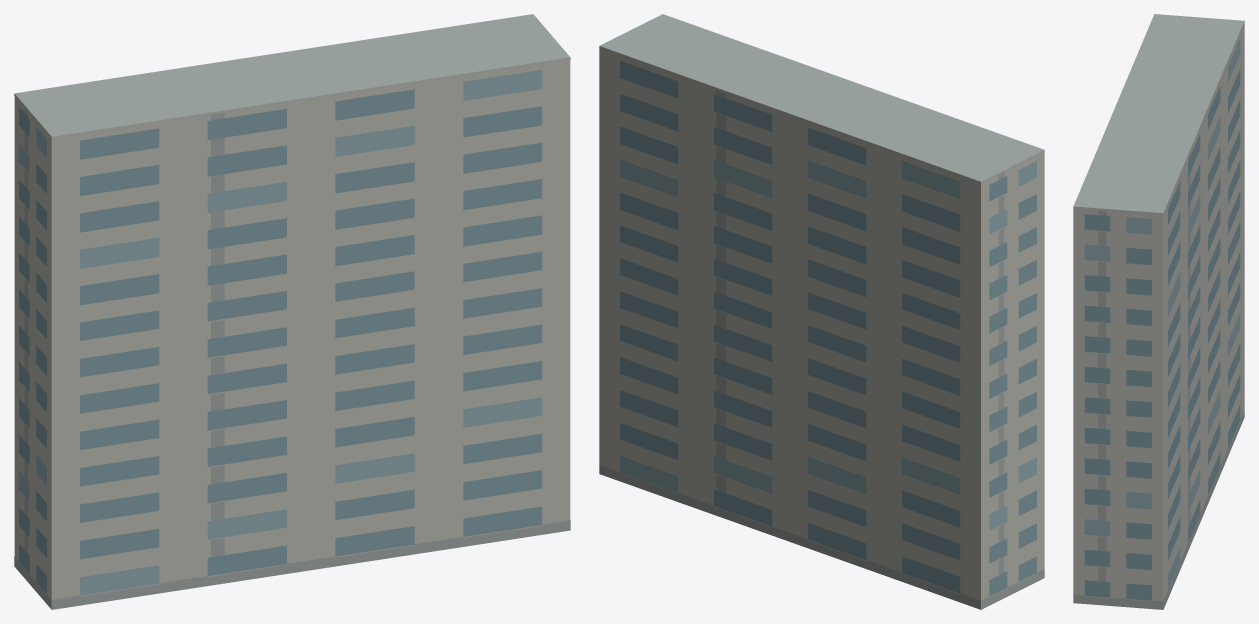
The model's file is residential-9fc532bc-6216-4def-90fa-6bdd85bdecbd.glb.
3 views of the same model, side by side, from view 1: azimuth 30°, elevation 25°; view 2: azimuth 150°, elevation 25°; view 3: azimuth 270°, elevation 25° (orthographic). The views are drawn at different scales.
Visible parts, largest first — view 1: residential-9fc532bc-6216-4def-90fa-6bdd85bdecbd.tmp; view 2: residential-9fc532bc-6216-4def-90fa-6bdd85bdecbd.tmp; view 3: residential-9fc532bc-6216-4def-90fa-6bdd85bdecbd.tmp.
Part boxes in pixels (<box>): residential-9fc532bc-6216-4def-90fa-6bdd85bdecbd.tmp: <box>14,14,570,609</box>; residential-9fc532bc-6216-4def-90fa-6bdd85bdecbd.tmp: <box>599,14,1044,609</box>; residential-9fc532bc-6216-4def-90fa-6bdd85bdecbd.tmp: <box>1073,14,1244,609</box>.
Bounding box in the file's own units: 47.41 × 44 × 17.22.
